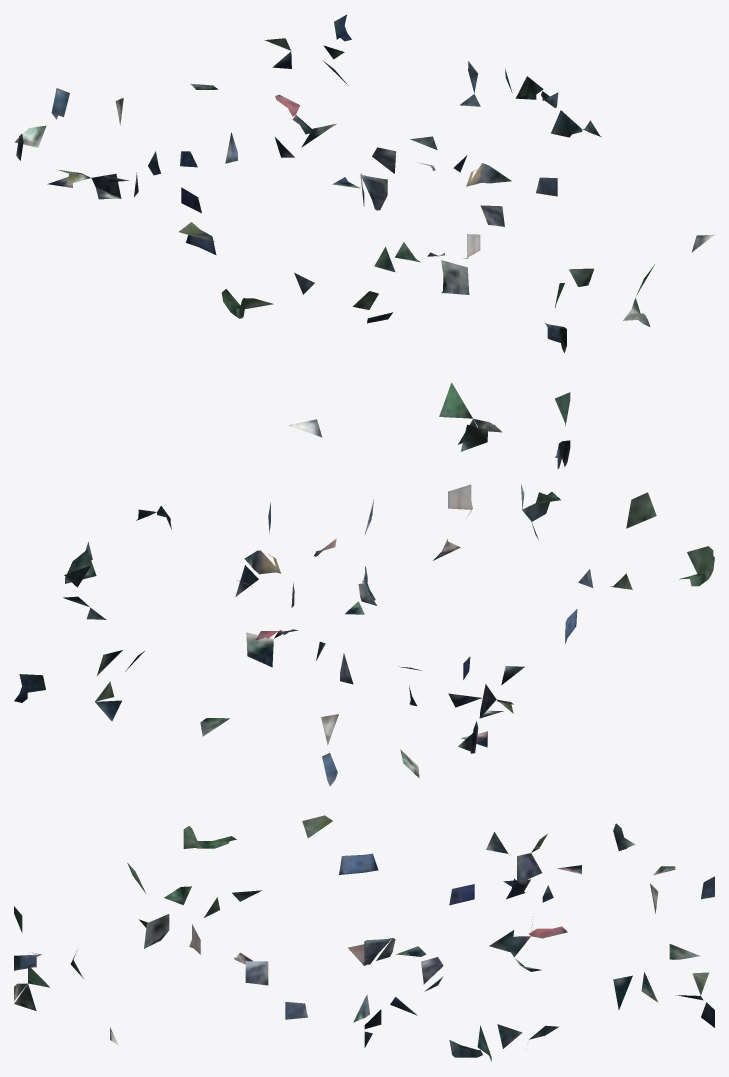
3 renders of one model, top to bottom at view 1: azimuth 30°, elevation 25°; view 2: azimuth 150°, elevation 25°; view 3: azimuth 270°, elevation 25°, orthographic. The views are drawn at different scales.
Parts seen in each view (by area): view 1: 304362727043706046_1; view 2: 304362727043706046_1; view 3: 304362727043706046_1.
Boxes of the visible parts, x1,y1,x2,y2 form: 304362727043706046_1: (14, 14, 714, 352); 304362727043706046_1: (14, 382, 714, 786); 304362727043706046_1: (14, 815, 714, 1061).
Size of the model in its own units: 109 by 16.64 by 153.
1 material, 1 textured.
